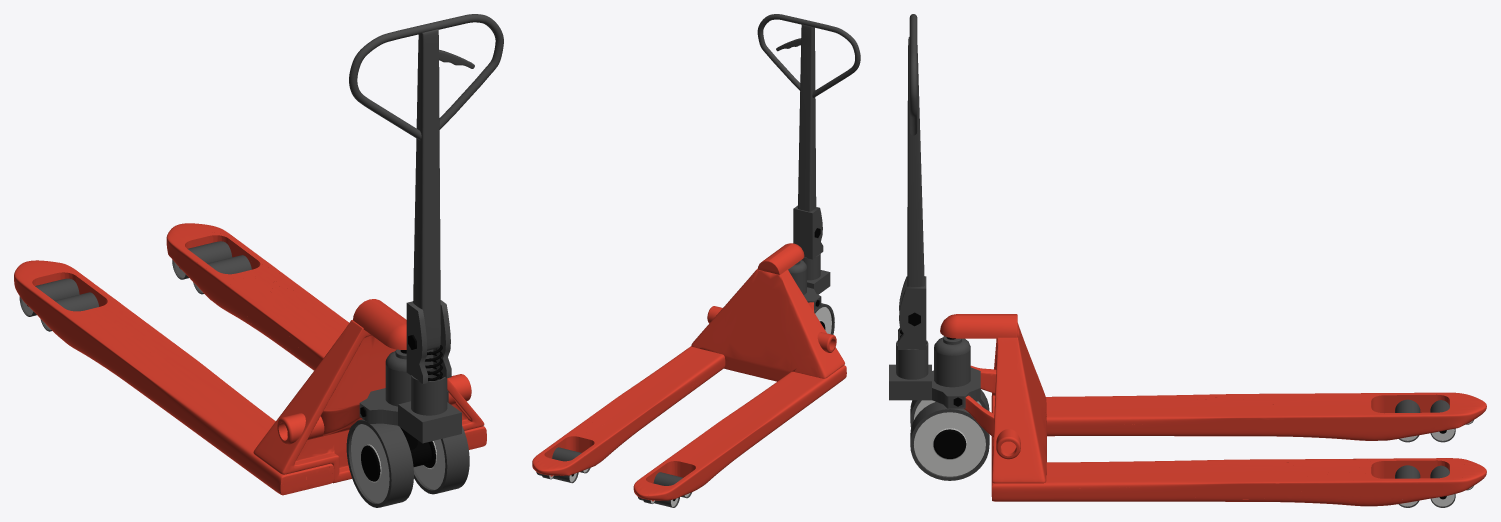
File: diablito.glb
3 views of the same model, side by side, from view 1: azimuth 30°, elevation 25°; view 2: azimuth 150°, elevation 25°; view 3: azimuth 270°, elevation 25° (orthographic). The views are drawn at different scales.
Visible parts, largest first — view 1: main_body, hydrolic_arm_1, rear_wheel, front_pump_wheel, hydrolic_support, hydrolics_1, wheel_supports; view 2: main_body, hydrolic_arm_1, front_pump_wheel, hydrolics_1, hydrolic_support, rear_wheel; view 3: main_body, hydrolic_arm_1, rear_wheel, hydrolics_1, hydrolic_support, front_pump_wheel.
Part boxes in pixels (x1=…): main_body: x1=14, y1=223, x2=486, y2=495; hydrolic_arm_1: x1=349, y1=14, x2=503, y2=383; rear_wheel: x1=346, y1=419, x2=469, y2=507; front_pump_wheel: x1=19, y1=241, x2=251, y2=331; hydrolic_support: x1=359, y1=388, x2=461, y2=443; hydrolics_1: x1=385, y1=349, x2=447, y2=415; wheel_supports: x1=400, y1=427, x2=431, y2=466; main_body: x1=532, y1=243, x2=846, y2=500; hydrolic_arm_1: x1=757, y1=14, x2=860, y2=259; front_pump_wheel: x1=536, y1=447, x2=691, y2=507; hydrolics_1: x1=788, y1=253, x2=820, y2=294; hydrolic_support: x1=803, y1=270, x2=830, y2=310; rear_wheel: x1=814, y1=303, x2=834, y2=334; main_body: x1=940, y1=314, x2=1486, y2=506; hydrolic_arm_1: x1=898, y1=14, x2=926, y2=349; rear_wheel: x1=910, y1=389, x2=989, y2=480; hydrolics_1: x1=896, y1=336, x2=970, y2=387; hydrolic_support: x1=889, y1=364, x2=980, y2=408; front_pump_wheel: x1=1395, y1=399, x2=1455, y2=507.
Bounding box in the file's own units: 171 × 383 × 483.
